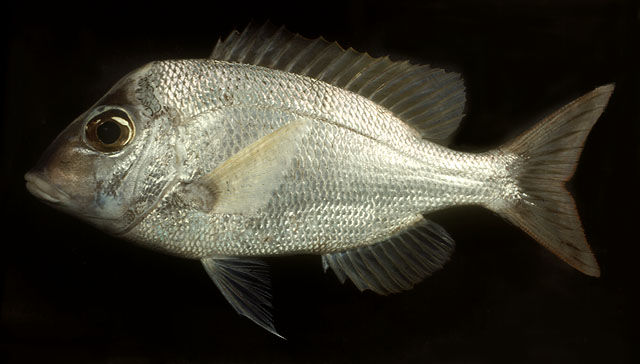fish: (26, 25, 615, 340)
